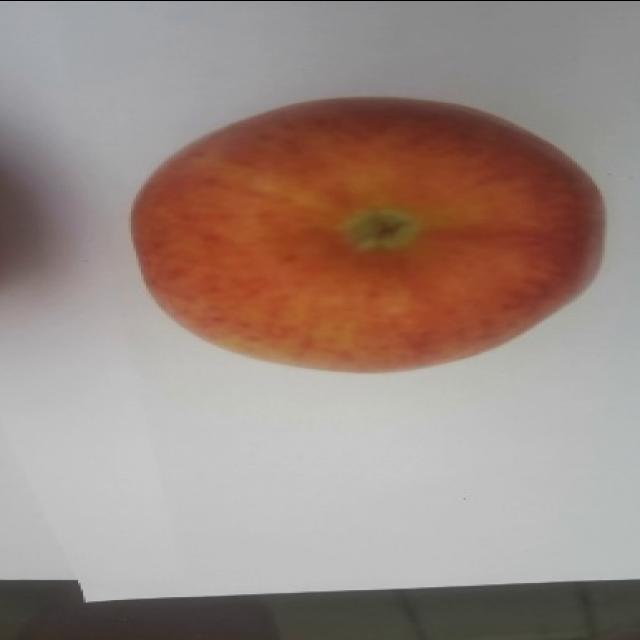Apple: (129, 94, 606, 374)
